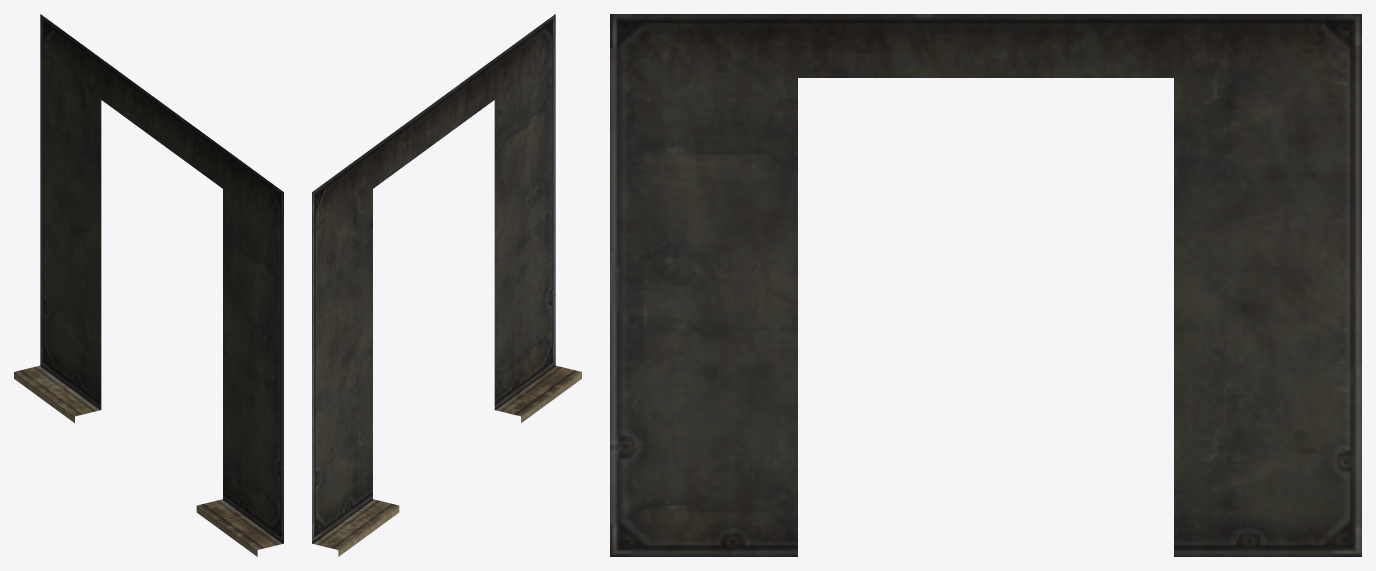
Rendered from pplant_ground_blank_doorway_notop.dae.
3 views of the same model, side by side, from view 1: azimuth 30°, elevation 25°; view 2: azimuth 150°, elevation 25°; view 3: azimuth 270°, elevation 25° (orthographic). The views are drawn at different scales.
Visible parts, largest first — view 1: ground_blank_doorway_notop; view 2: ground_blank_doorway_notop; view 3: ground_blank_doorway_notop.
Part boxes in pixels (x1=…): ground_blank_doorway_notop: x1=14, y1=14, x2=283, y2=556; ground_blank_doorway_notop: x1=312, y1=14, x2=581, y2=556; ground_blank_doorway_notop: x1=610, y1=14, x2=1361, y2=556.
Size of the model in its own units: 0.25 by 3.25 by 4.
